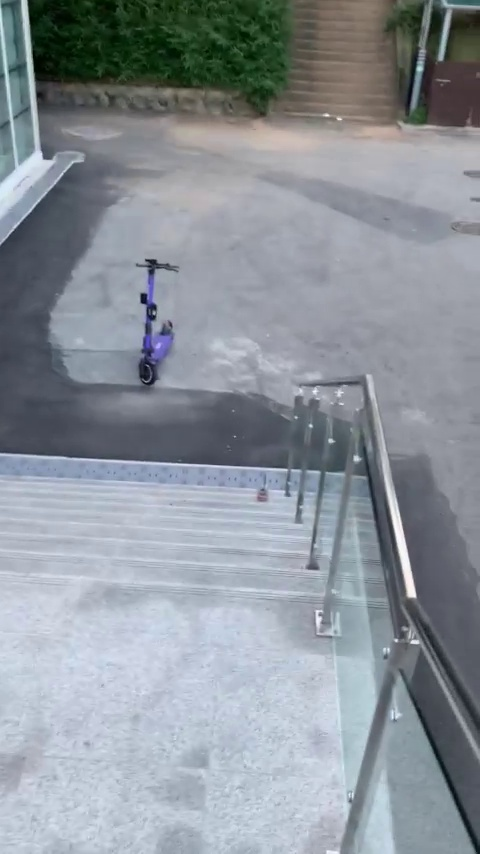beam: (115, 246, 190, 397)
